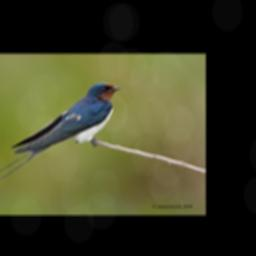Swallow: (0, 83, 122, 179)
